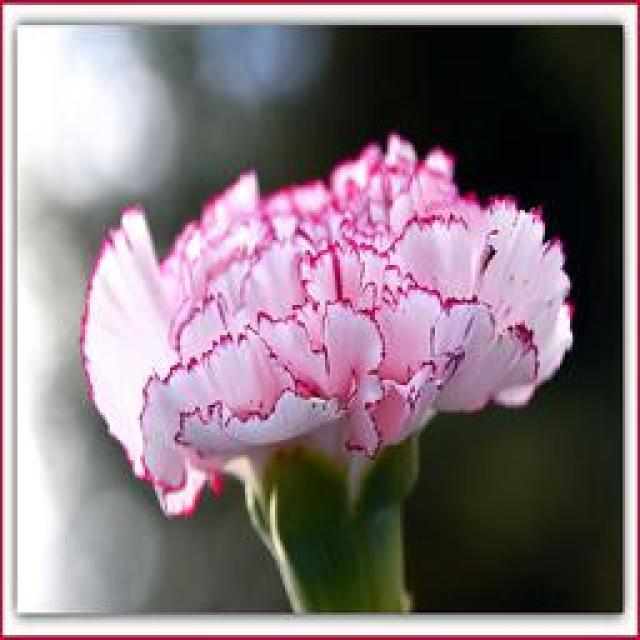carnation: (42, 139, 594, 521)
